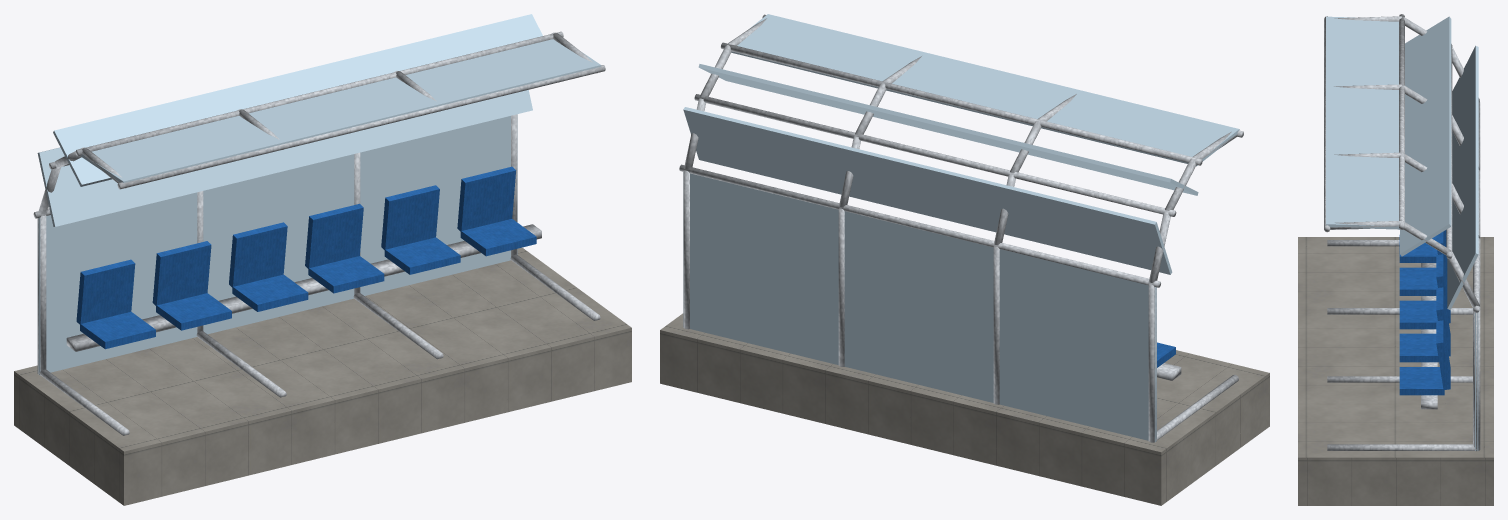
File: dugout_bench.glb
3 renders of one model, left to right at view 1: azimuth 30°, elevation 25°; view 2: azimuth 150°, elevation 25°; view 3: azimuth 270°, elevation 25°, orthographic. The views are drawn at different scales.
Parts seen in each view (by area): view 1: Dugout_poly, Dugout_base, Dugout_seats, Dugout_frame; view 2: Dugout_poly, Dugout_base, Dugout_frame; view 3: Dugout_base, Dugout_poly, Dugout_frame, Dugout_seats.
Part boxes in pixels (x1,y1,x2,y2): Dugout_poly: [37, 14, 601, 374]; Dugout_base: [14, 247, 631, 505]; Dugout_seats: [76, 166, 536, 349]; Dugout_frame: [33, 31, 605, 435]; Dugout_poly: [683, 14, 1239, 442]; Dugout_base: [660, 313, 1269, 505]; Dugout_frame: [679, 14, 1243, 442]; Dugout_base: [1298, 237, 1493, 505]; Dugout_poly: [1326, 16, 1478, 450]; Dugout_frame: [1324, 14, 1480, 451]; Dugout_seats: [1399, 230, 1450, 395].
Bounding box in the file's own units: 4.4 × 2.58 × 1.65.
Materials: 4 (3 with a texture image).
